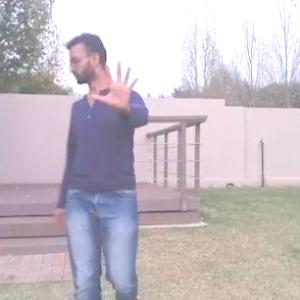follow_hand: (86, 52, 144, 112)
